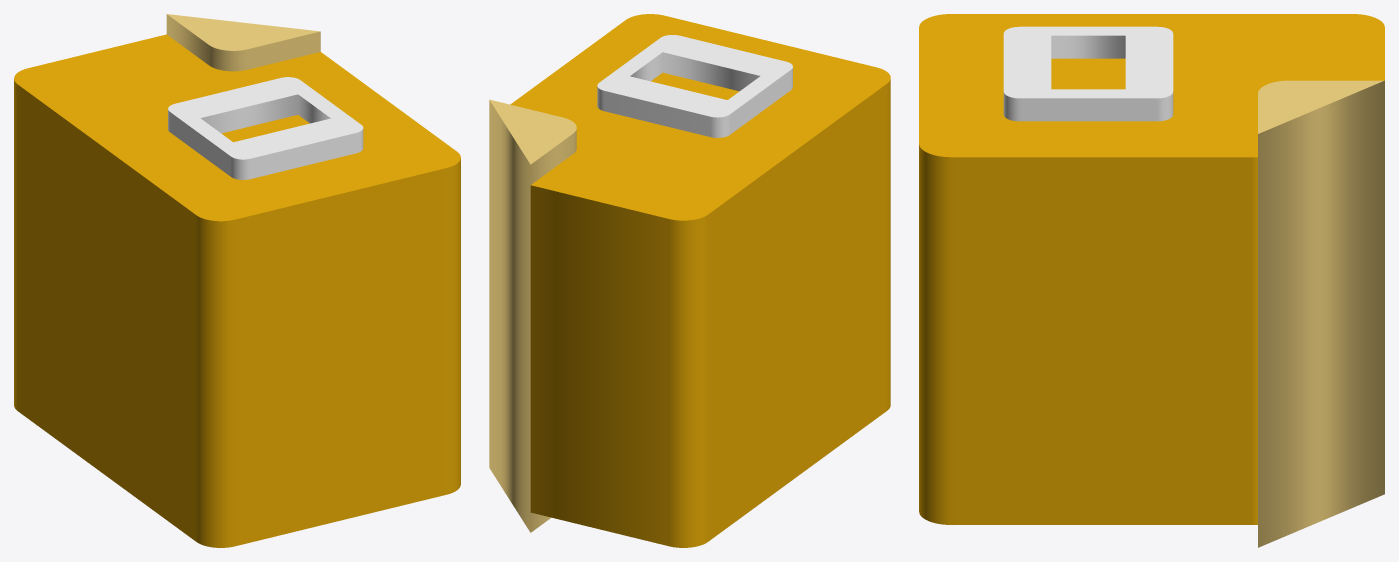
Rendered from slides.glb.
3 renders of one model, left to right at view 1: azimuth 30°, elevation 25°; view 2: azimuth 150°, elevation 25°; view 3: azimuth 270°, elevation 25°, orthographic. The views are drawn at different scales.
Parts seen in each view (by area): view 1: Path, Shape, Path.002; view 2: Path, Path.002, Shape; view 3: Path, Path.002, Shape.
Boxes of the visible parts, left/top/right/bottom form: Path: left=14, top=34, right=460, bottom=547; Shape: left=168, top=77, right=363, bottom=179; Path.002: left=166, top=14, right=320, bottom=71; Path: left=510, top=14, right=890, bottom=547; Path.002: left=489, top=99, right=576, bottom=532; Shape: left=597, top=35, right=792, bottom=137; Path: left=919, top=14, right=1384, bottom=524; Path.002: left=1258, top=80, right=1384, bottom=547; Shape: left=1003, top=26, right=1173, bottom=121.
Size of the model in its own units: 0.0134 by 0.018 by 0.0184.
